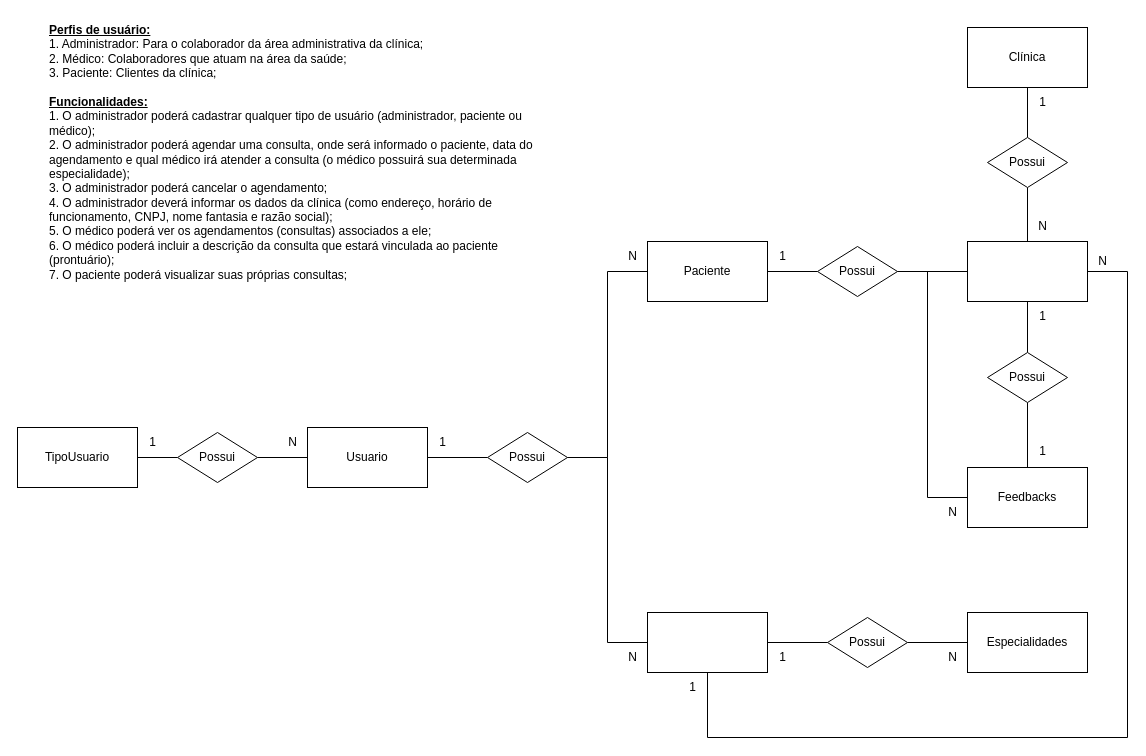
Some shapes in this 1146 by 756 pixel diagram are drawn without their labels. Each missing label, with the centre of its shape:
"Consultas" belongs at point 1027,271.
"Medico" belongs at point 707,642.
